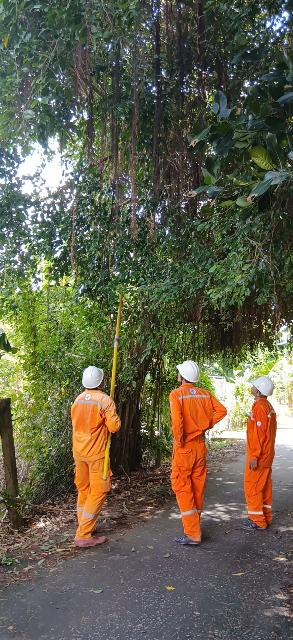helmet: (78, 363, 108, 392), (253, 372, 280, 399), (175, 358, 202, 384)
shoes: (73, 533, 112, 548), (171, 532, 202, 548), (234, 520, 271, 532)
